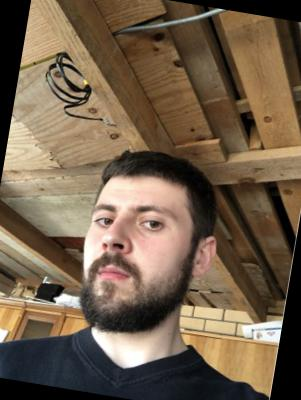without_mask: (73, 186, 193, 343)
